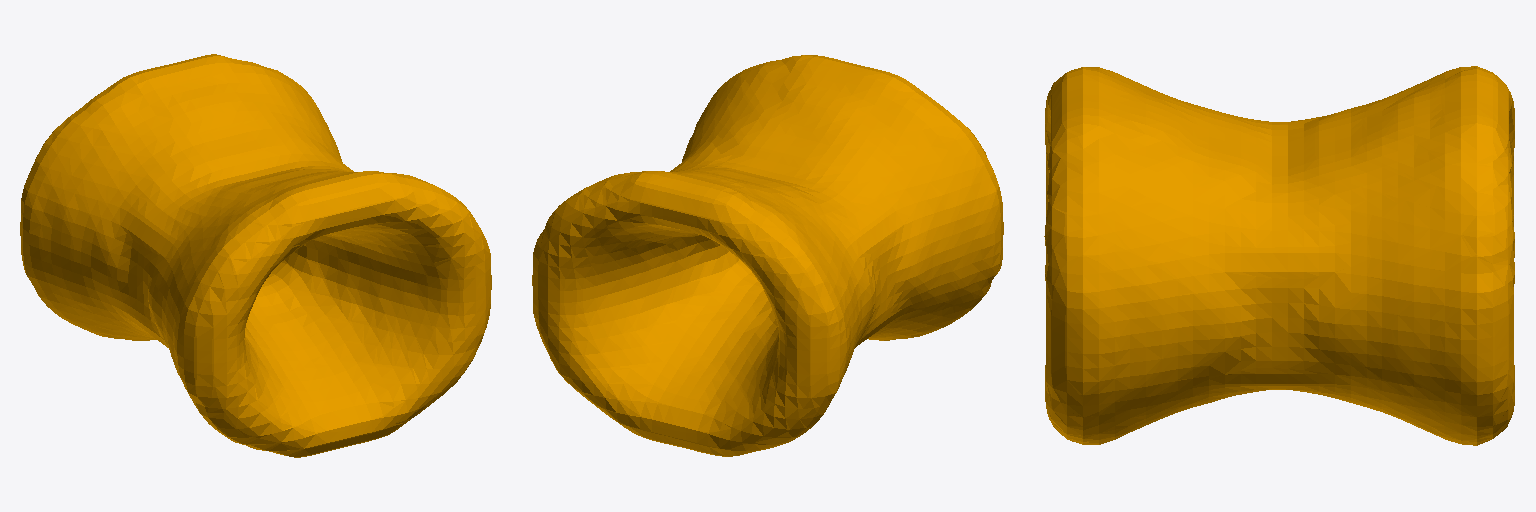
URDF robot description (S06_2):
<?xml version="1.0"?>
<robot name="S06_2">
  <link name="base_link">
    <inertial>
      <mass value="0.11496" />
      <origin xyz="0 0 0" />
      <inertia  ixx="0.0002" ixy="0.0"  ixz="0.0"  iyy="0.0002"  iyz="0.0" izz="0.0002" />
    </inertial>
    <visual>
      <geometry>
        <mesh filename="../../../meshes/egad/train/S06_2.obj" />
      </geometry>
    </visual>
    <collision>
      <geometry>
        <mesh filename="../../../meshes/egad/train/S06_2.obj" />
      </geometry>
    </collision>
  </link>
</robot>

--- Render facts (derived) ---
The picture shows the robot from 3 angles, left to right: view 1: azimuth 30°, elevation 25°; view 2: azimuth 150°, elevation 25°; view 3: azimuth 270°, elevation 25°; orthographic projection.
Model S06_2 with 1 links and 0 joints (none), rooted at base_link, posed all joints at 0.
Visible links, largest first — view 1: base_link; view 2: base_link; view 3: base_link.
Link boxes in pixels (left/top/right/bottom): base_link: left=20, top=54, right=491, bottom=457; base_link: left=532, top=55, right=1003, bottom=456; base_link: left=1044, top=66, right=1514, bottom=445.
Size in the robot's own frame: 0.0688 by 0.075 by 0.0569 metres.
1 mesh visuals loaded from 1 distinct referenced files (1 OBJ).